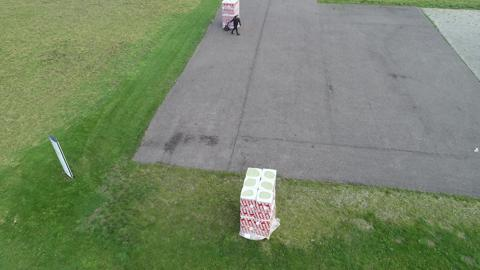RockwoolPallet: (240, 167, 278, 237)
